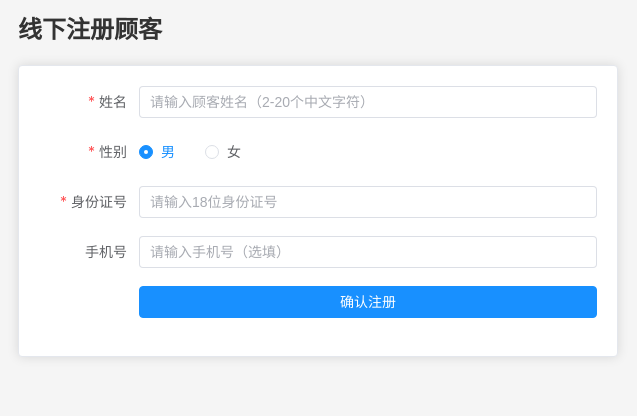
OfflineRegister.vue › shows error when submitting with empty name
The image size is (637, 416).
Click the button "确认注册": (368, 302) [139,286,597,318]
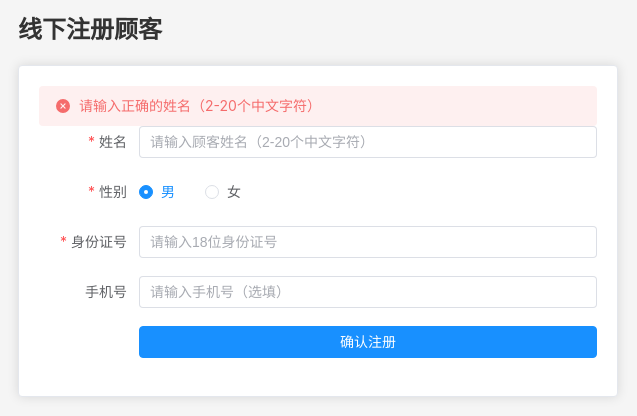
Now the text "请输入正确" is shown, box [79,97,321,114]
